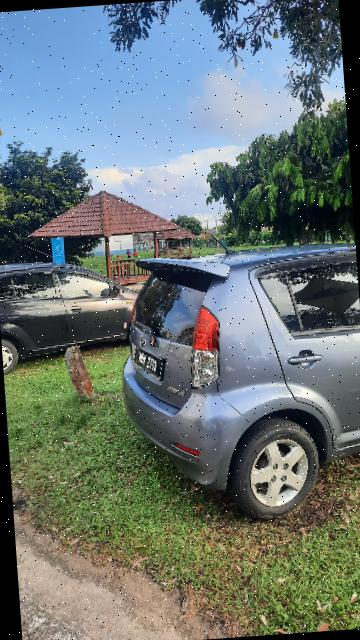License_Plate: (129, 346, 171, 388)
car: (113, 218, 360, 528), (1, 243, 168, 372)
